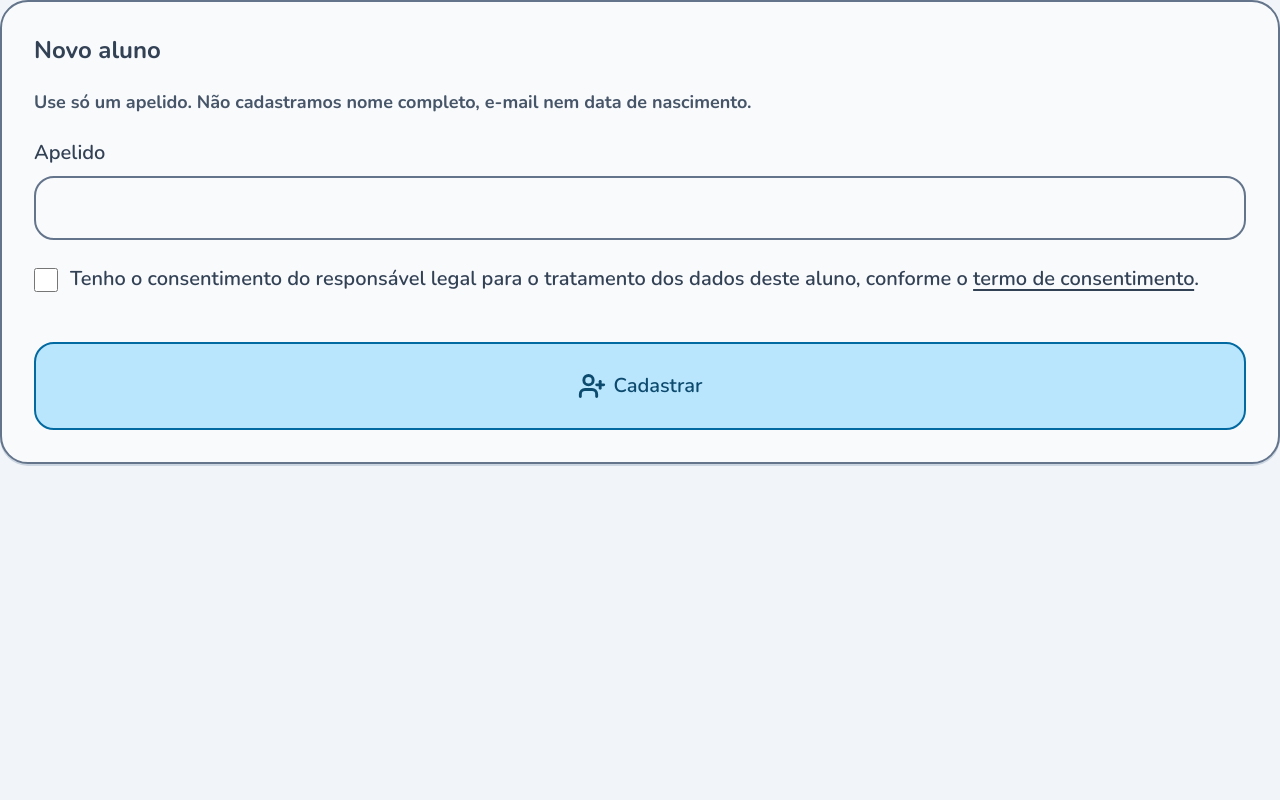
Test: NewStudentForm › mostra mensagem gentil quando a API recusa ou falha
Type "ana@mail.com" into the field labelled "Apelido".
click(640, 208); type("ana@mail.com")  # box x1=34 y1=176 x2=1246 y2=240
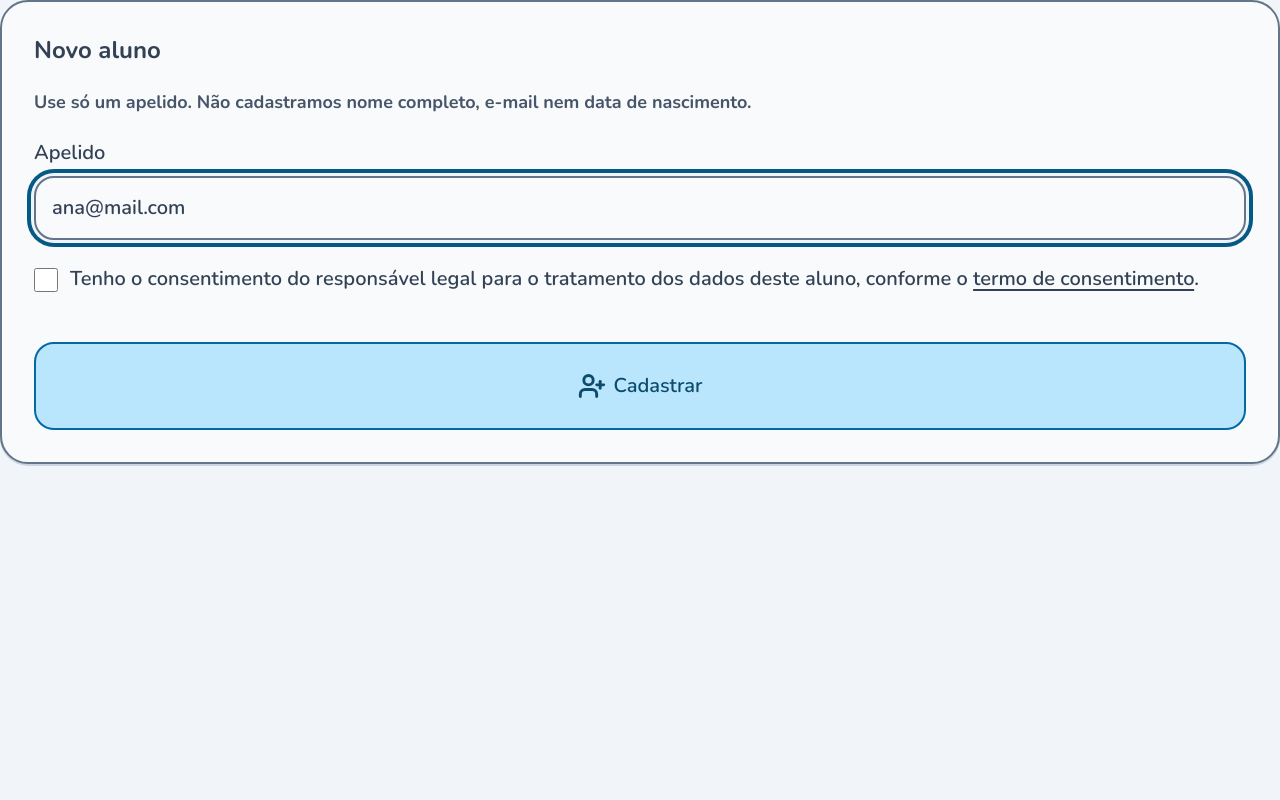
Click the checkbox labelled "consentimento".
click(46, 280)  # box x1=34 y1=268 x2=58 y2=292
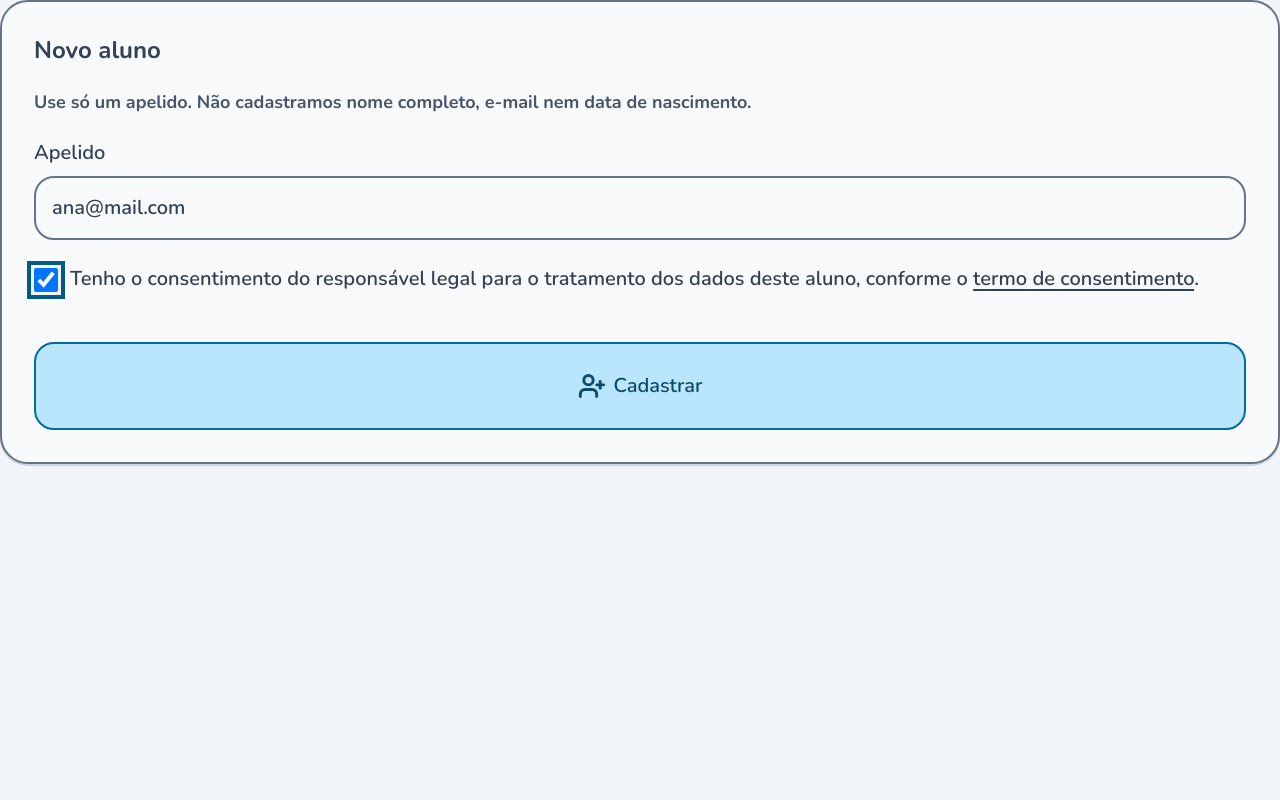
Click the button "Cadastrar".
click(640, 386)  # box x1=34 y1=342 x2=1246 y2=430
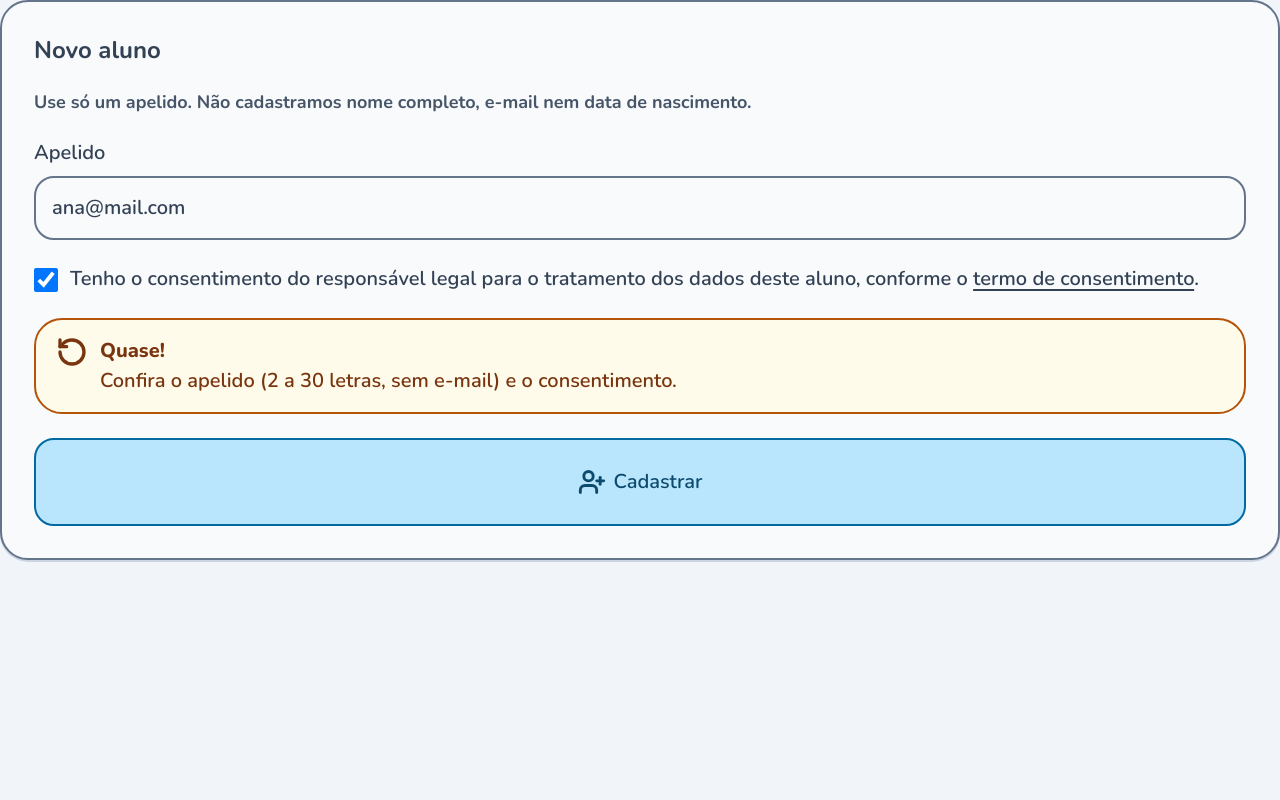
Expected: the text "sem e-mail" is shown, x1=100 y1=367 x2=677 y2=394
Click the button "Cadastrar".
click(640, 482)  # box x1=34 y1=438 x2=1246 y2=526
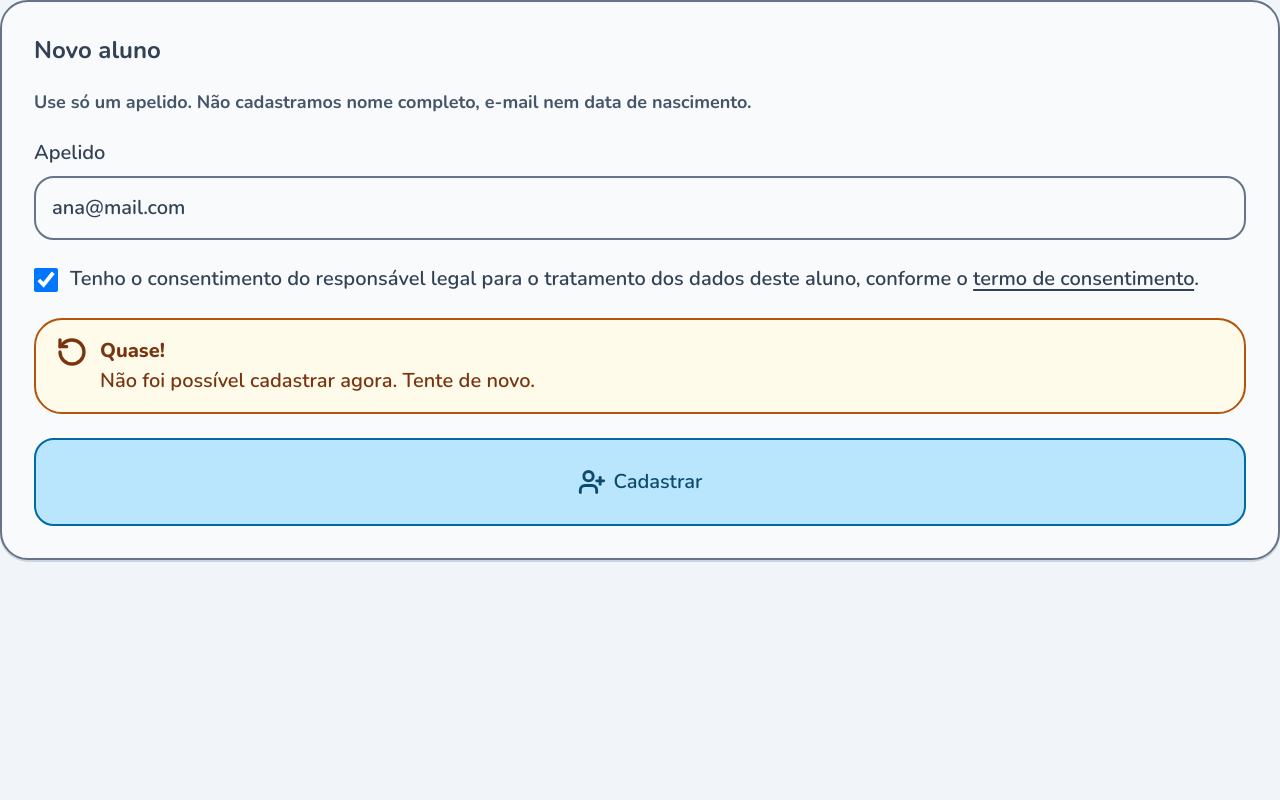
Expected: the message shows "Não foi possível cadastrar agora", x1=100 y1=367 x2=535 y2=394
